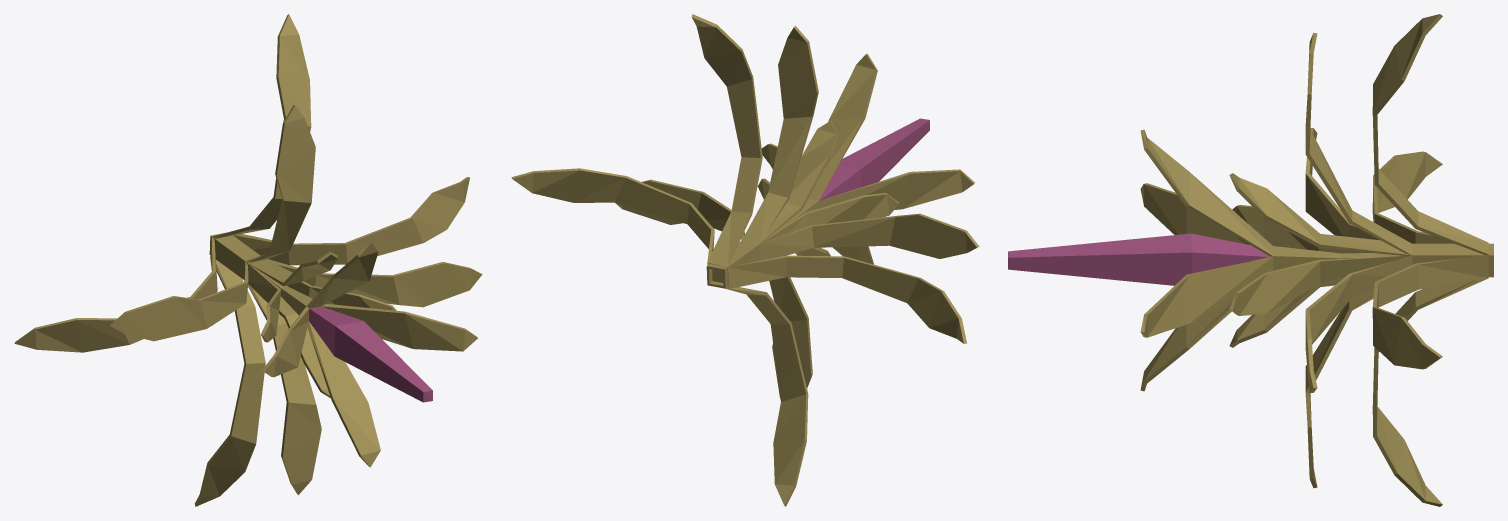
Rendered from plant-leafy-5.obj.
3 renders of one model, left to right at view 1: azimuth 30°, elevation 25°; view 2: azimuth 150°, elevation 25°; view 3: azimuth 270°, elevation 25°, orthographic. The views are drawn at different scales.
Parts seen in each view (by area): view 1: plant-leafy-5; view 2: plant-leafy-5; view 3: plant-leafy-5.
Boxes of the visible parts, <box> form: plant-leafy-5: <box>14,14,482,506</box>; plant-leafy-5: <box>511,14,979,506</box>; plant-leafy-5: <box>1008,14,1493,506</box>.
Size of the model in its own units: 22.65 by 22.32 by 18.
